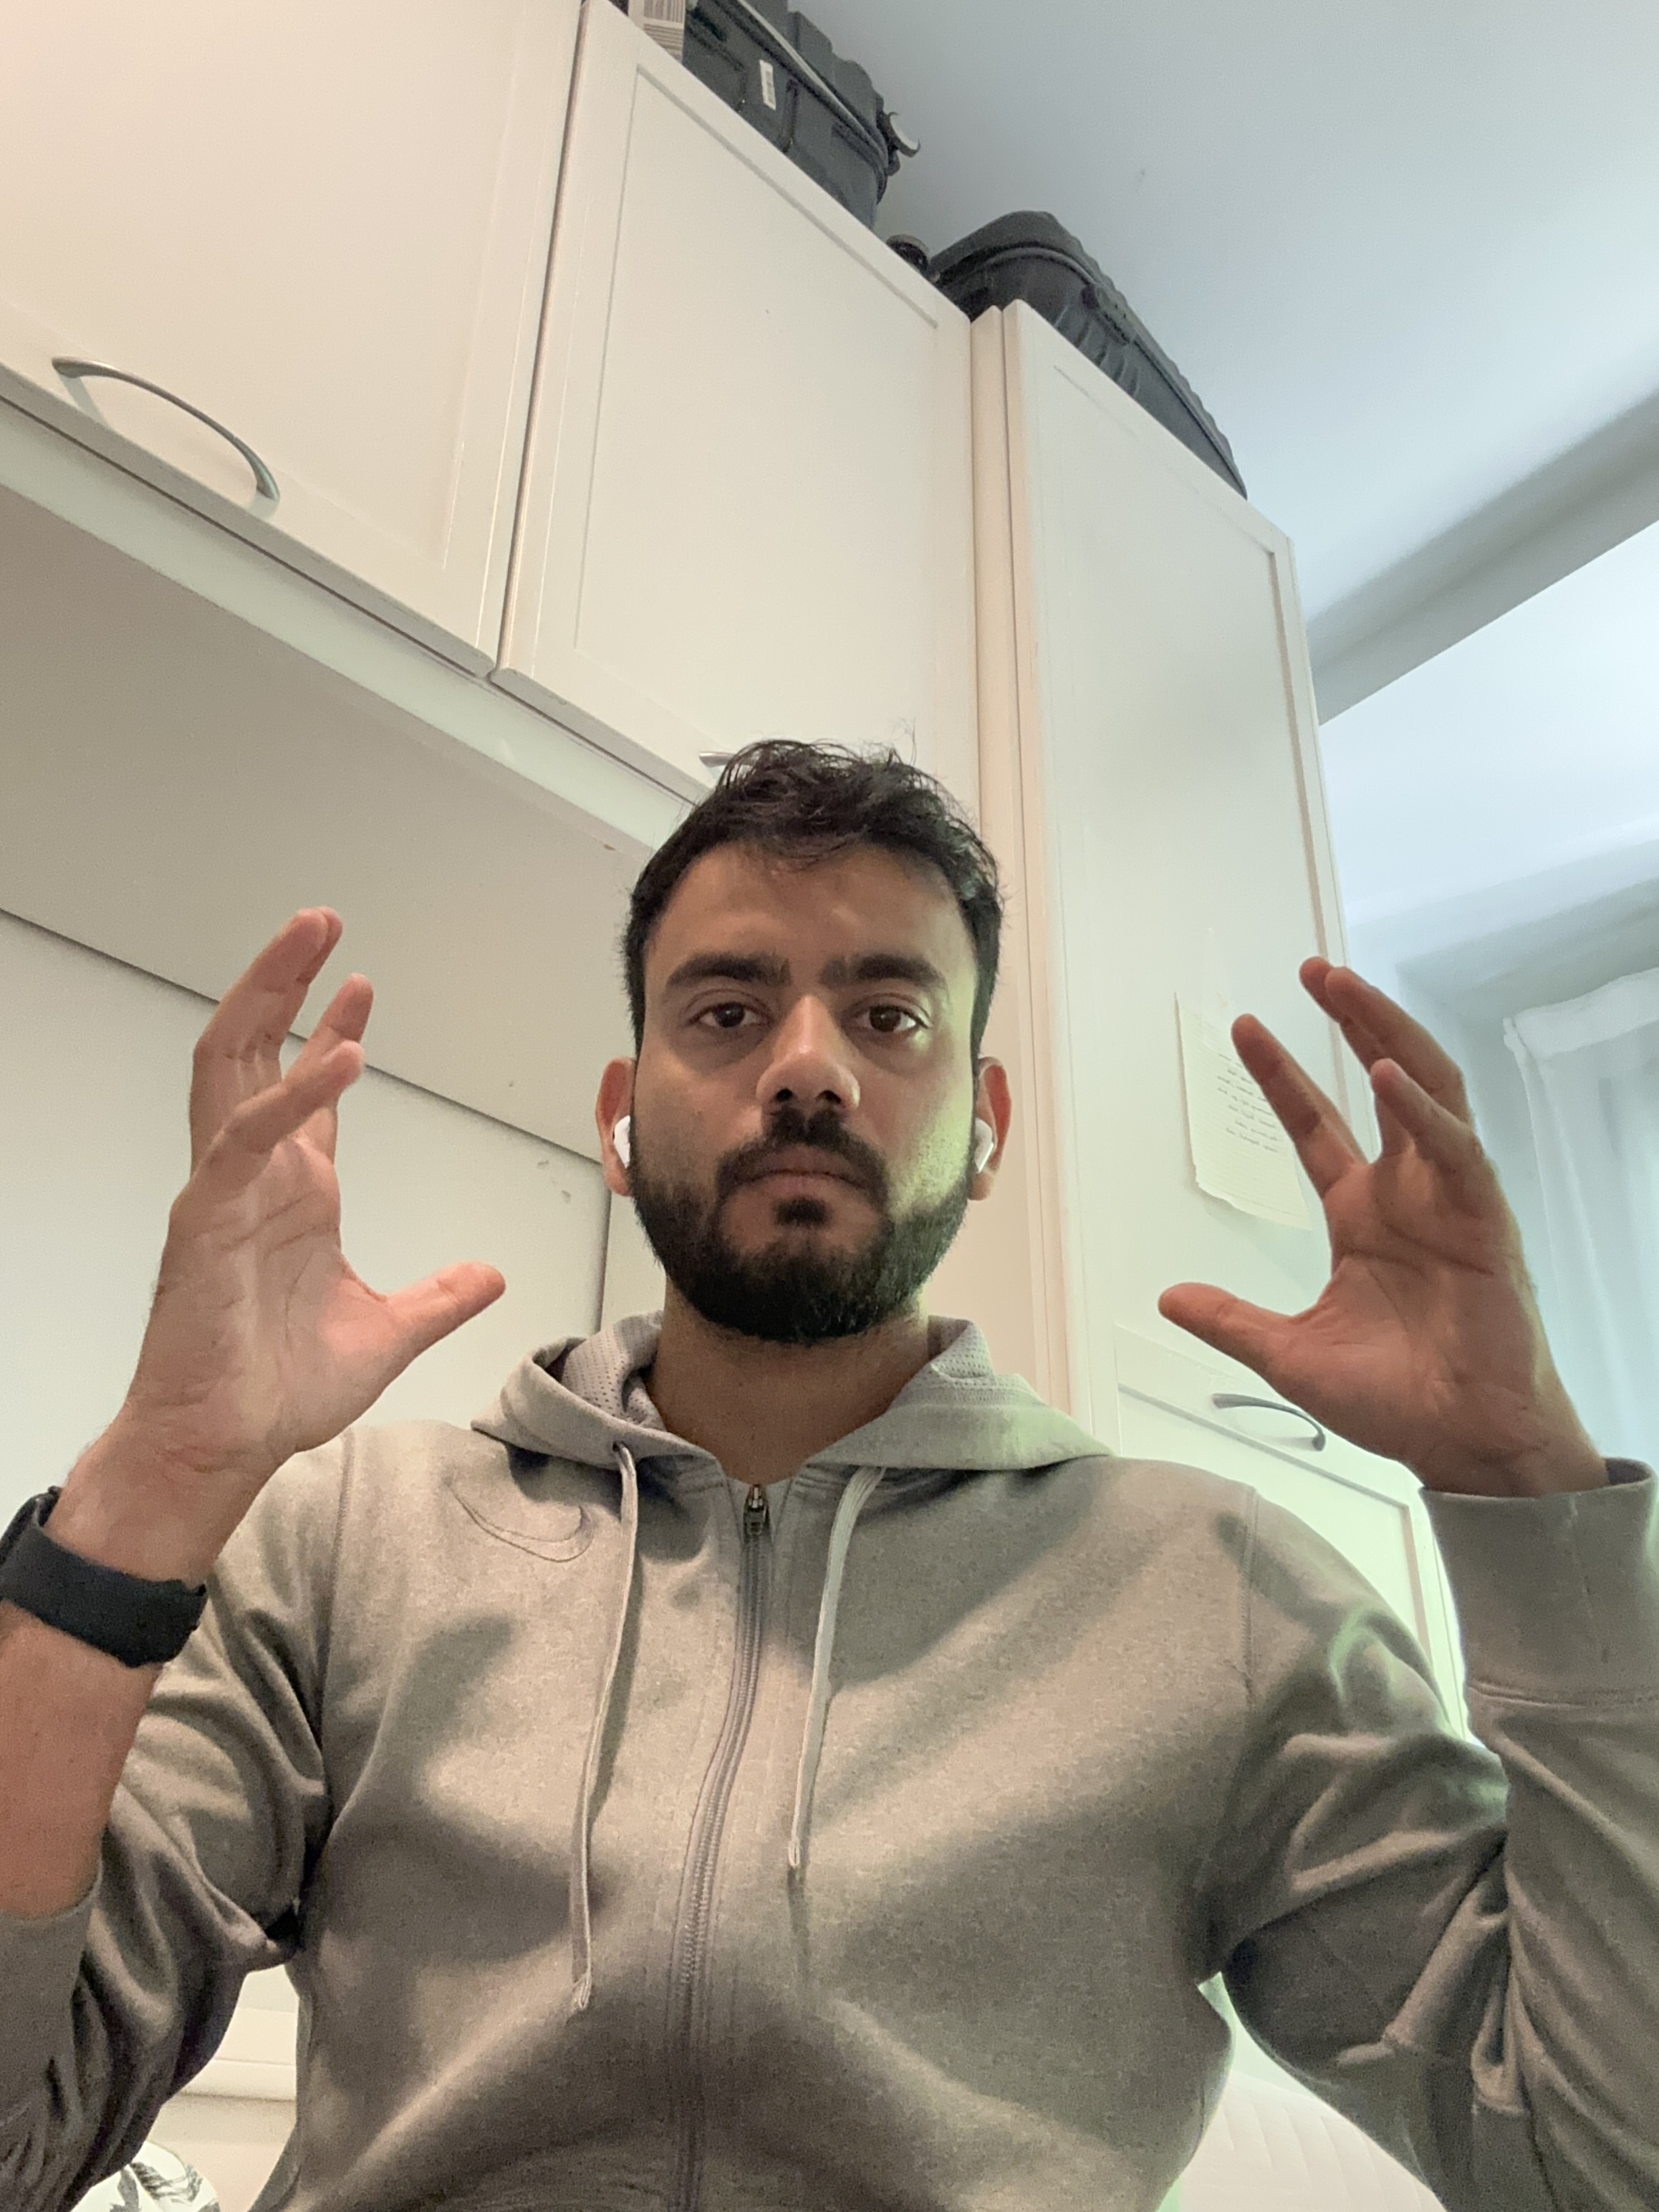explode: (7, 733, 1650, 2203)
